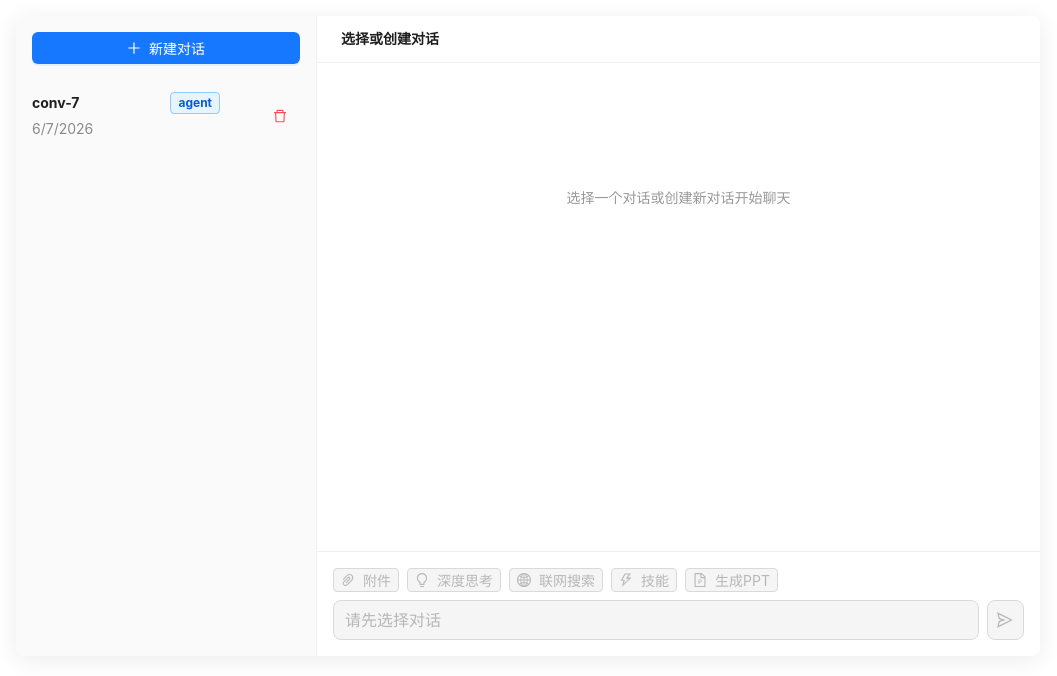
Test case: ChatPage AgentKBBanner (M21 T19) › banner close hides it for the session
Click the text "conv-7" at [56, 102], box [32,94,79,111]
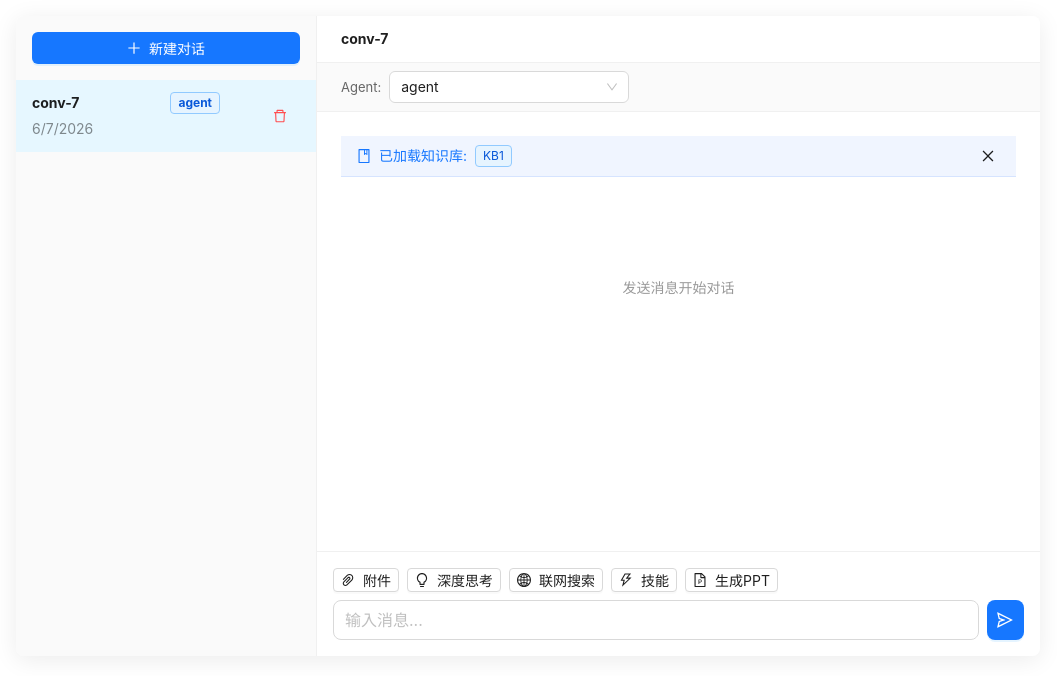
expect the text "KB1" is shown: met, box [475,145,512,167]
expect the text "已加载知识库:" is shown: met, box [379,147,467,164]
expect the button without text in the row of "KB1" is shown: met
Click the button without text in the row of "KB1" at [988, 156], box [976,144,1000,168]
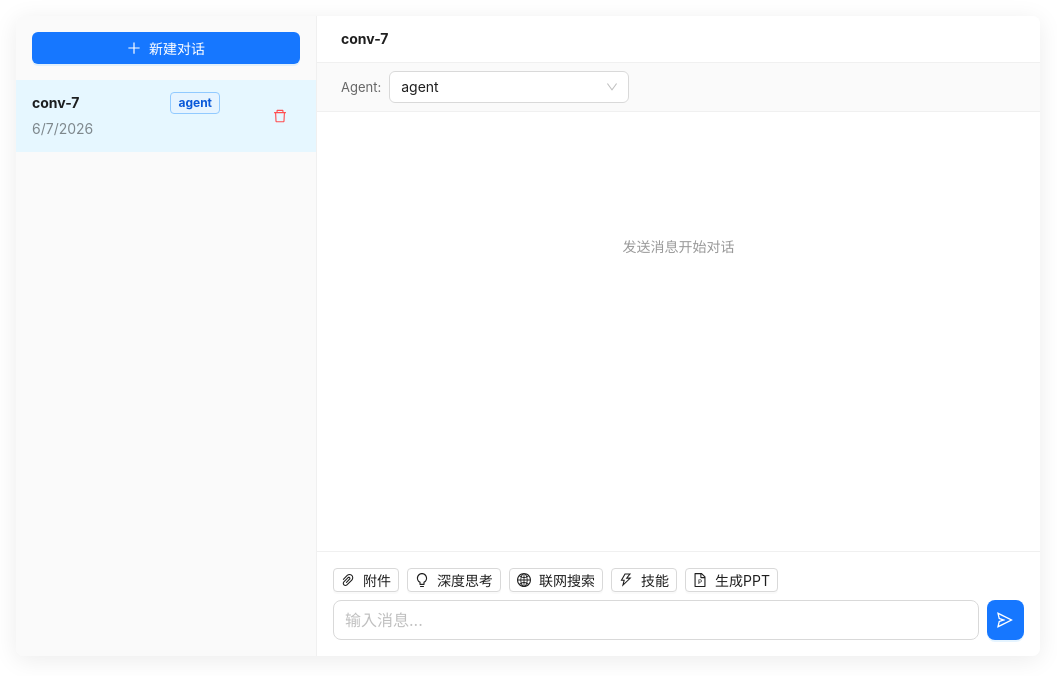
expect the text "KB1" is gone: met
